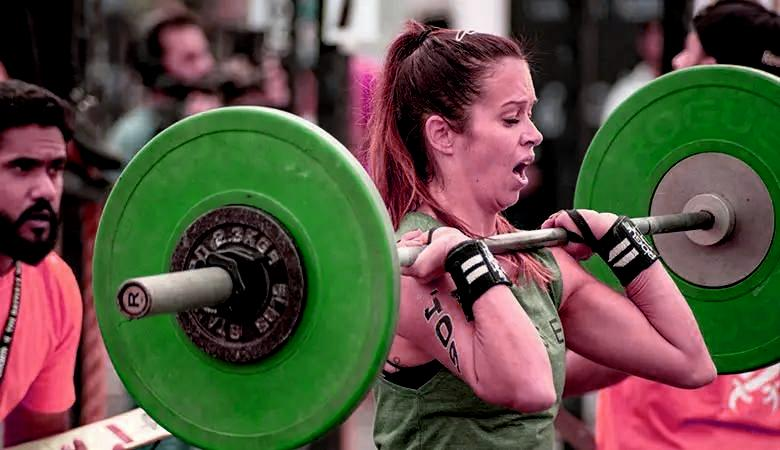Barbell: (110, 274, 158, 328)
